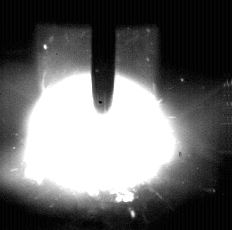arame: (92, 0, 117, 114)
poca: (26, 0, 178, 230)
